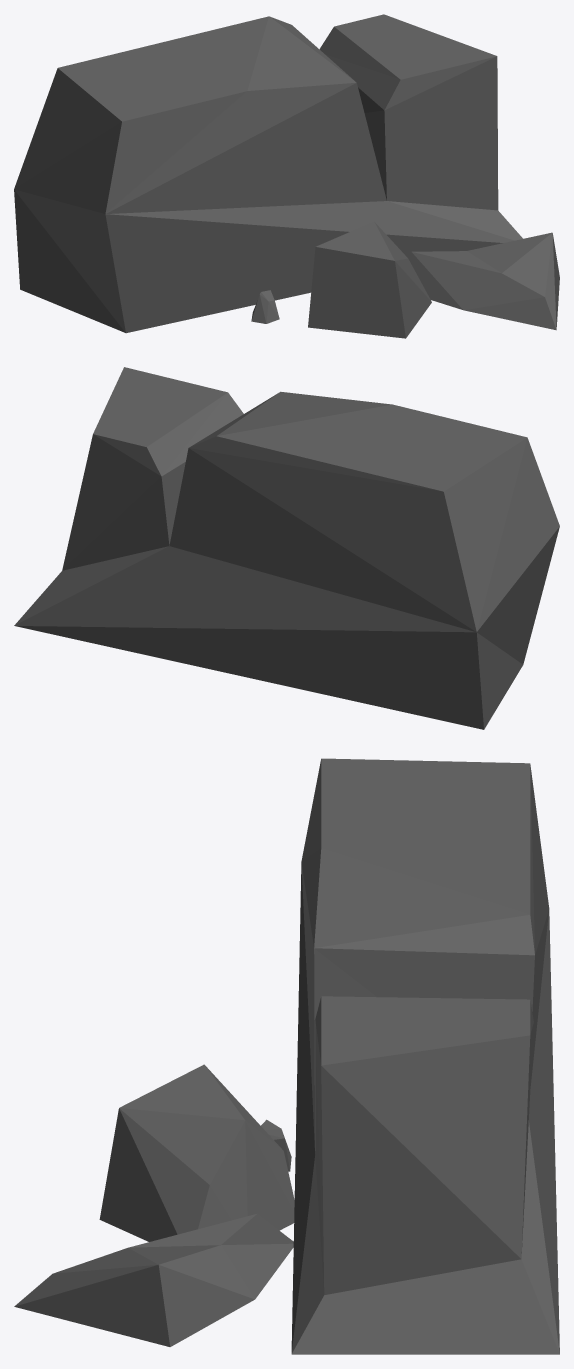
The model's file is Stone_Rail_08.FBX.
3 views of the same model, one above another, from view 1: azimuth 30°, elevation 25°; view 2: azimuth 150°, elevation 25°; view 3: azimuth 270°, elevation 25° (orthographic). The views are drawn at different scales.
Parts seen in each view (by area): view 1: Stone_Rail_08; view 2: Stone_Rail_08; view 3: Stone_Rail_08.
Boxes of the visible parts, <box> form: Stone_Rail_08: <box>14,14,559,338</box>; Stone_Rail_08: <box>14,367,559,729</box>; Stone_Rail_08: <box>14,758,559,1354</box>.
Size of the model in its own units: 1.64 by 0.781 by 1.24.
